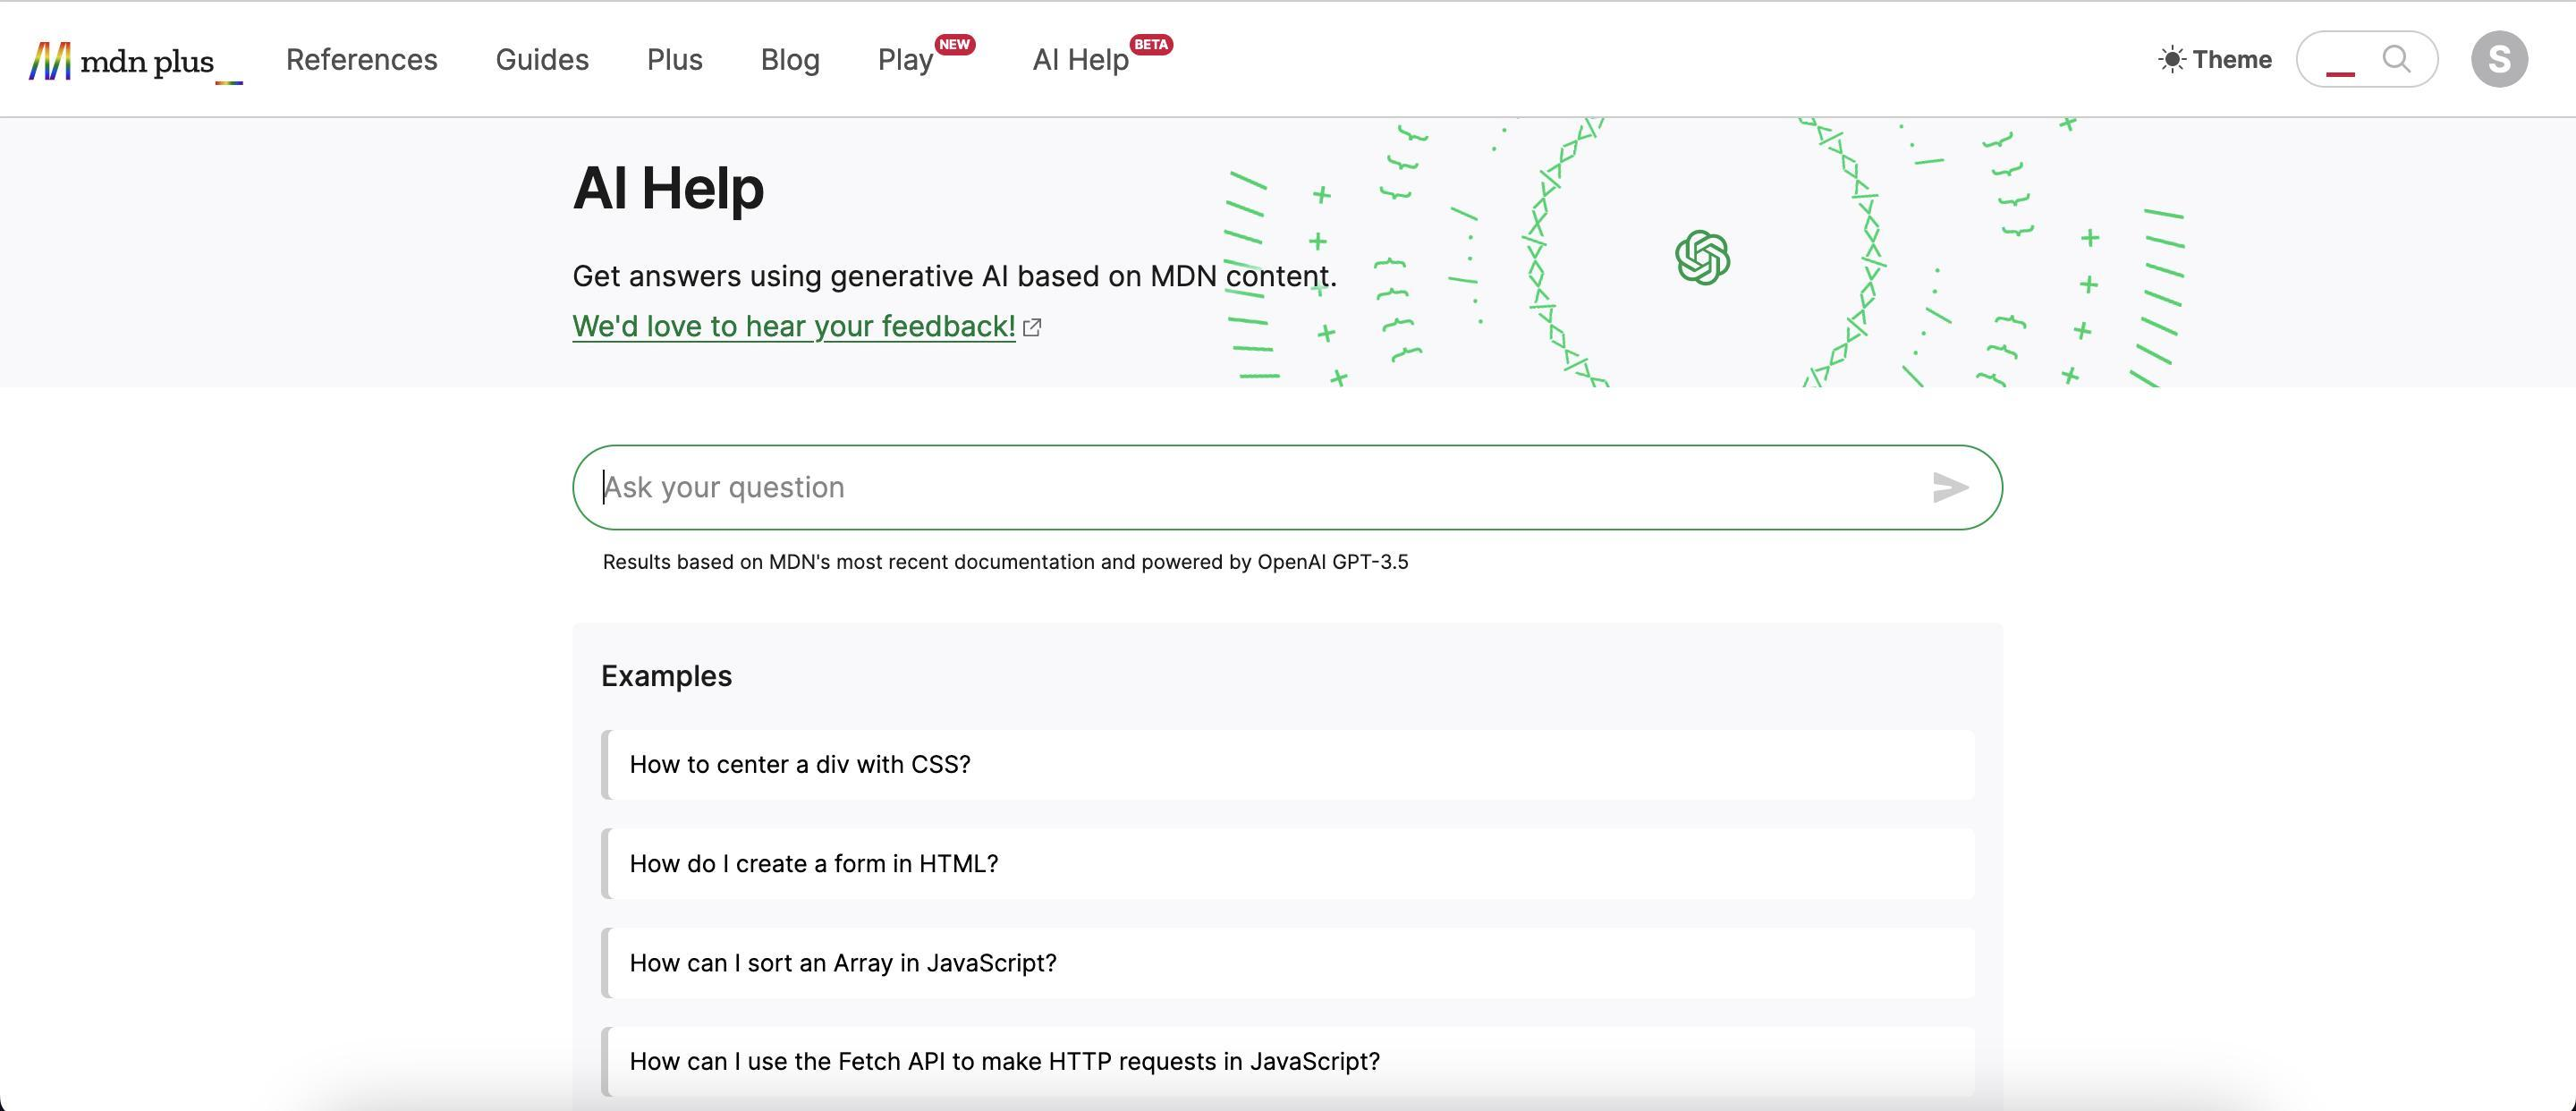icon: (2150, 43, 2188, 76)
input: (577, 445, 2004, 532), (2292, 31, 2443, 92)
label: (2187, 44, 2280, 77)
